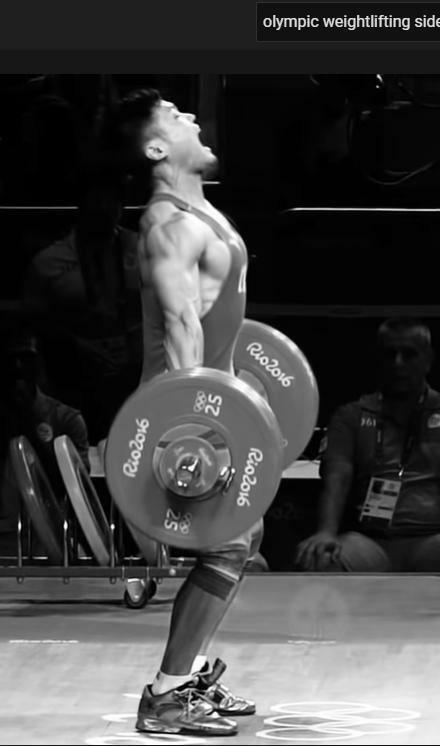Barbell: (167, 461, 206, 491)
